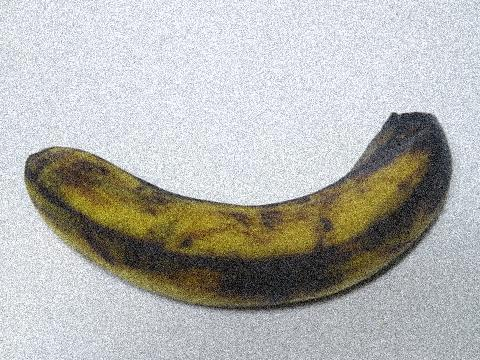overripe: (10, 96, 467, 322)
